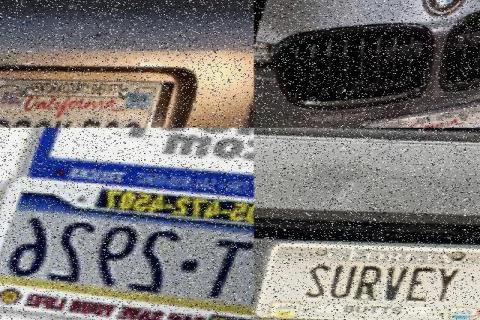LicensePlate: (0, 203, 253, 320), (256, 243, 478, 319), (60, 128, 254, 184), (0, 76, 165, 128)
